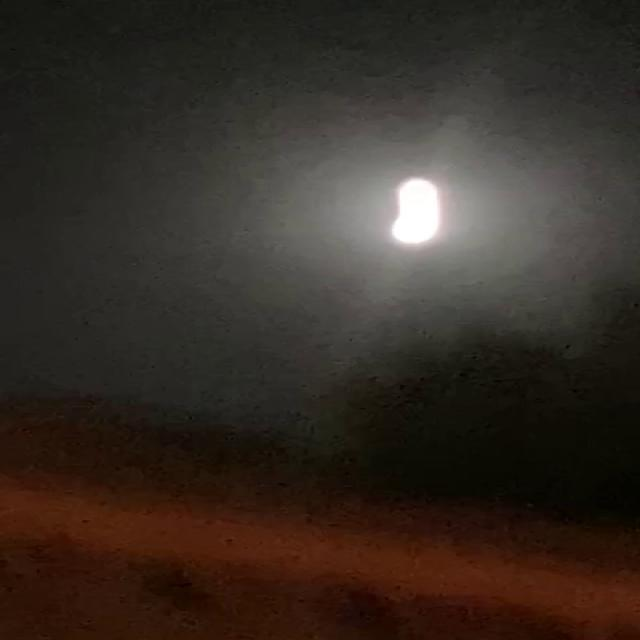moon: (284, 172, 426, 214)
